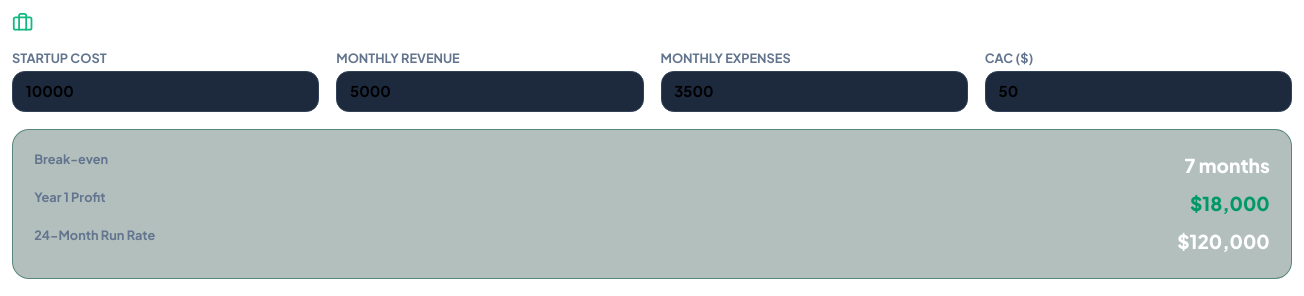
Test: tool interactions › BusinessViabilityCalculator › shows negative year 1 profit when expenses exceed revenue
Replace the text in the number field showing "5000" below "Monthly Revenue" with "2000" at (490, 92), box [336,72,644,112]
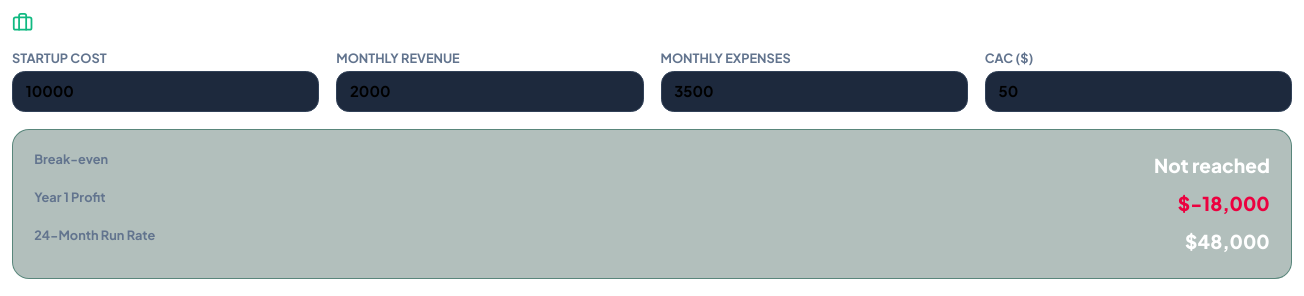
Check: the text "$-18,000" is shown, box [1178,189,1270,219]
